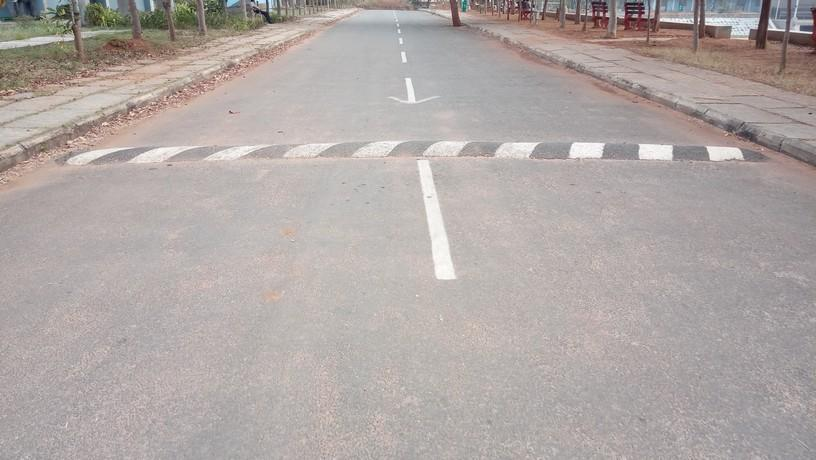speedbreaker: (33, 134, 796, 165)
